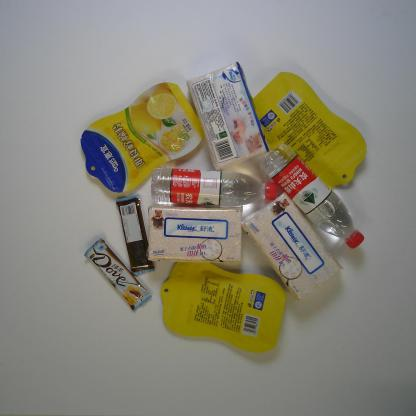Chocolate: (84, 237, 152, 312), (115, 195, 157, 278)
Dried Fruit: (241, 71, 367, 192), (79, 80, 204, 196), (160, 254, 288, 354)
Drink: (260, 143, 366, 250), (148, 165, 279, 209)
Tissue: (237, 190, 344, 300), (186, 61, 272, 174), (144, 205, 245, 265)
